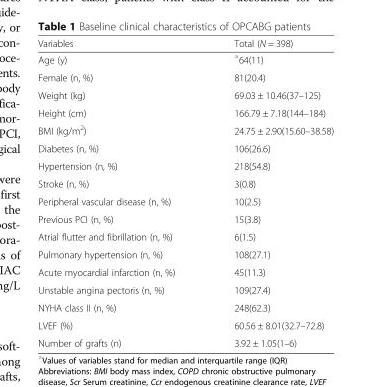table: (37, 37, 333, 348)
table column: (37, 37, 203, 348), (203, 37, 333, 348)
table column header: (37, 37, 333, 50)
table row: (37, 120, 333, 139), (37, 50, 333, 68), (37, 68, 333, 86), (37, 156, 333, 174), (37, 174, 333, 192), (37, 192, 333, 210), (37, 227, 333, 245), (37, 245, 333, 263), (37, 280, 333, 298), (37, 298, 333, 316), (37, 86, 333, 103), (37, 103, 333, 120), (37, 139, 333, 156), (37, 210, 333, 227), (37, 263, 333, 280), (37, 316, 333, 333), (37, 333, 333, 348), (37, 37, 333, 50)
